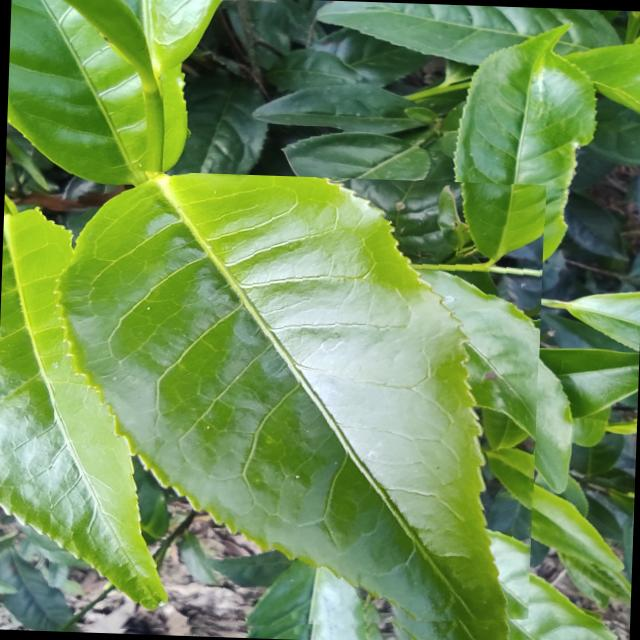Category B(2-4 days): (46, 167, 546, 640)
